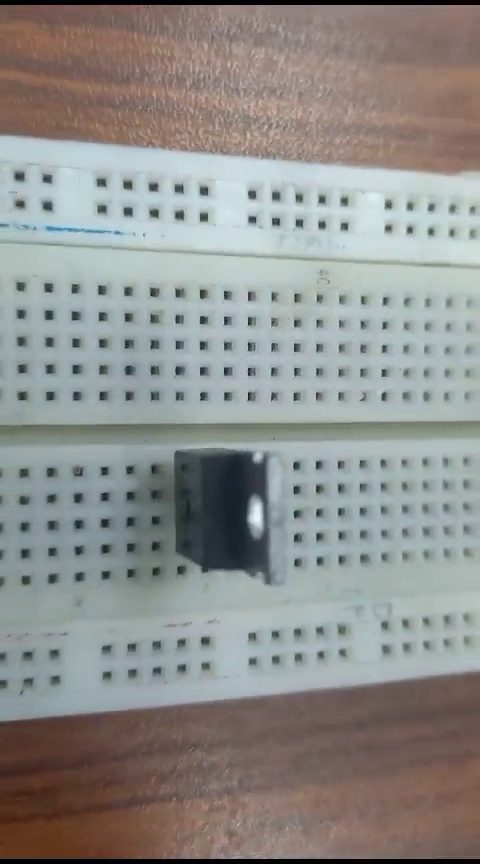voltage regulator: (152, 436, 306, 609)
